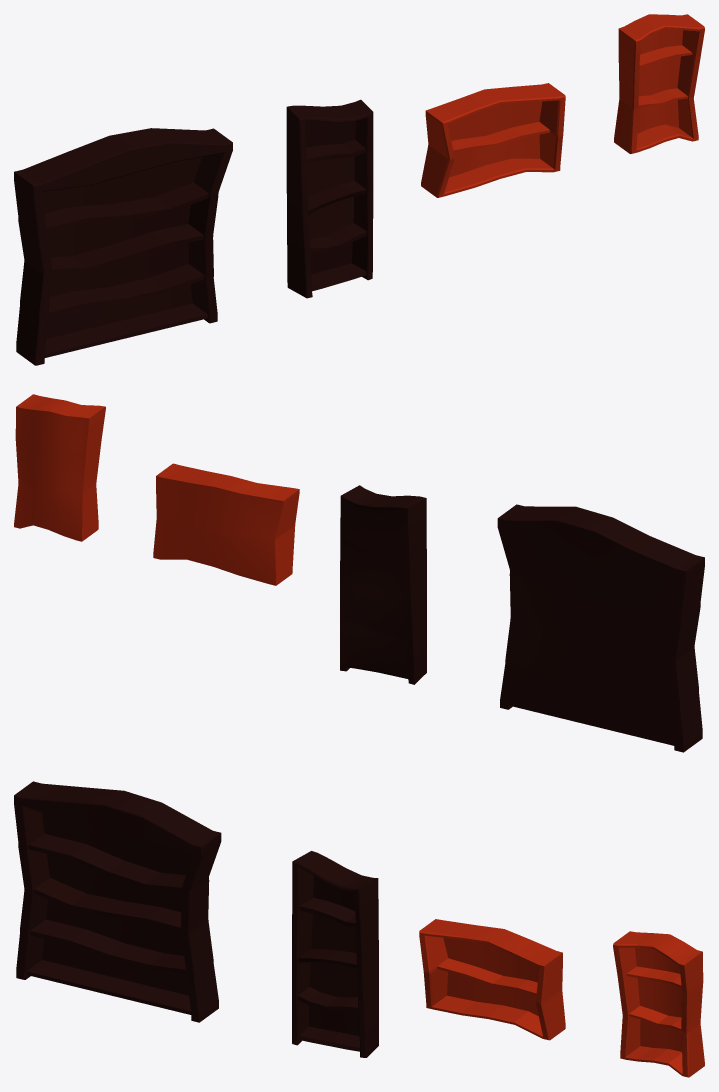
File: Regale.FBX
The picture shows the model from 3 angles, top to bottom: view 1: azimuth 30°, elevation 25°; view 2: azimuth 150°, elevation 25°; view 3: azimuth 330°, elevation 25°; orthographic projection.
Visible parts, largest first — view 1: Regal_Stand01, Regal_Stand02, Regal_Hängen01, Regal_Hängen02; view 2: Regal_Stand01, Regal_Stand02, Regal_Hängen01, Regal_Hängen02; view 3: Regal_Stand01, Regal_Stand02, Regal_Hängen01, Regal_Hängen02.
Boxes of the visible parts, x1,y1,x2,y2 form: Regal_Stand01: (14,128,232,365); Regal_Stand02: (286,99,373,298); Regal_Hängen01: (421,83,565,197); Regal_Hängen02: (614,14,704,153); Regal_Stand01: (497,504,704,752); Regal_Stand02: (340,485,426,684); Regal_Hängen01: (153,463,299,585); Regal_Hängen02: (14,394,105,541); Regal_Stand01: (14,781,221,1022); Regal_Stand02: (292,851,378,1057); Regal_Hängen01: (419,919,565,1040); Regal_Hängen02: (613,931,704,1077).
Size of the model in its own units: 644 by 180 by 46.63.
